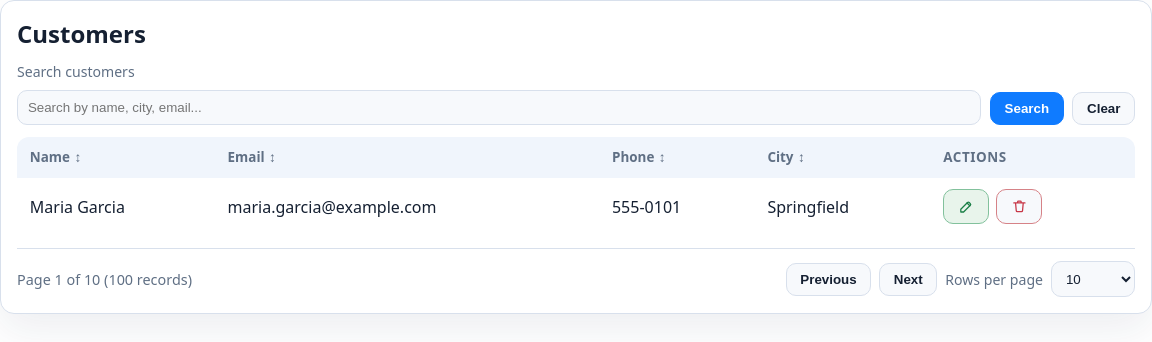
CustomerListPage › clears the search input and refetches default results
Type "springfield" into the search field labelled "Search customers" at (499, 107), box 17,90 -> 981,125
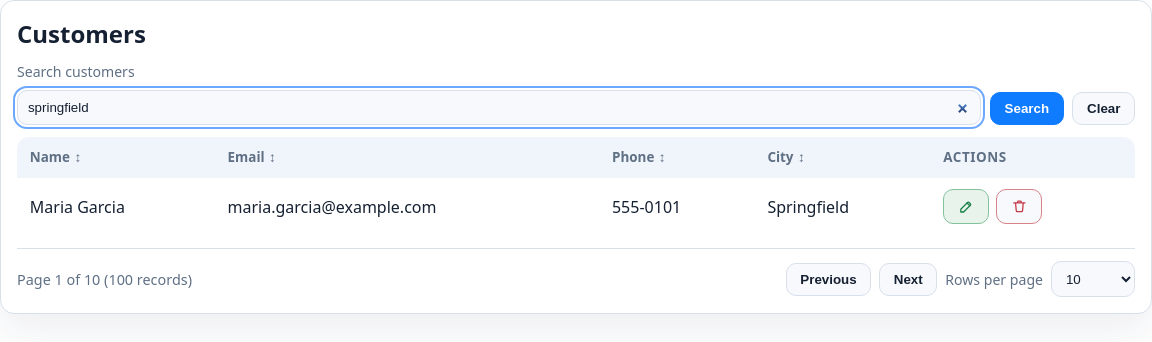
Click the button "Search" at (1027, 108), box 990,92 -> 1064,125
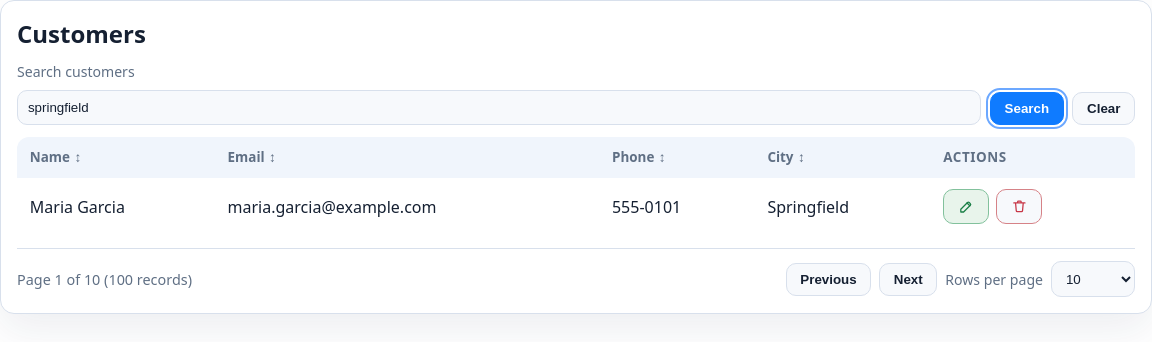
Click the button "Clear" at (1104, 108), box 1072,92 -> 1135,125
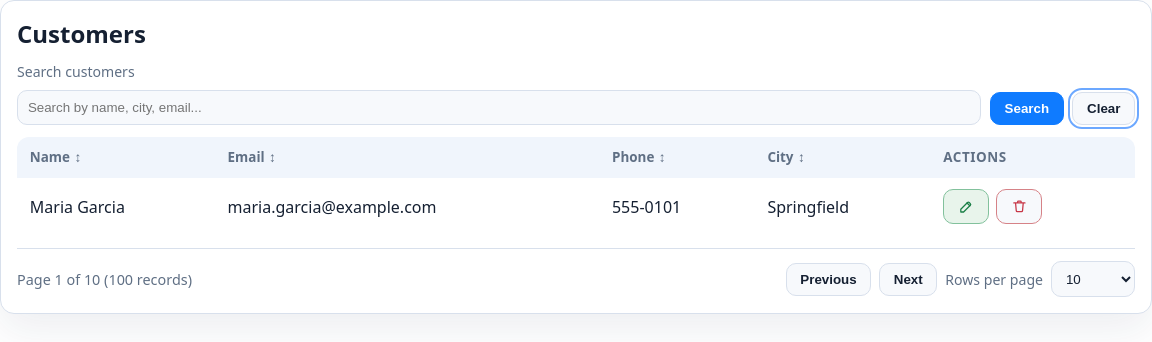
Expected: the search field labelled "Search customers" is empty, 17,90 -> 981,125
